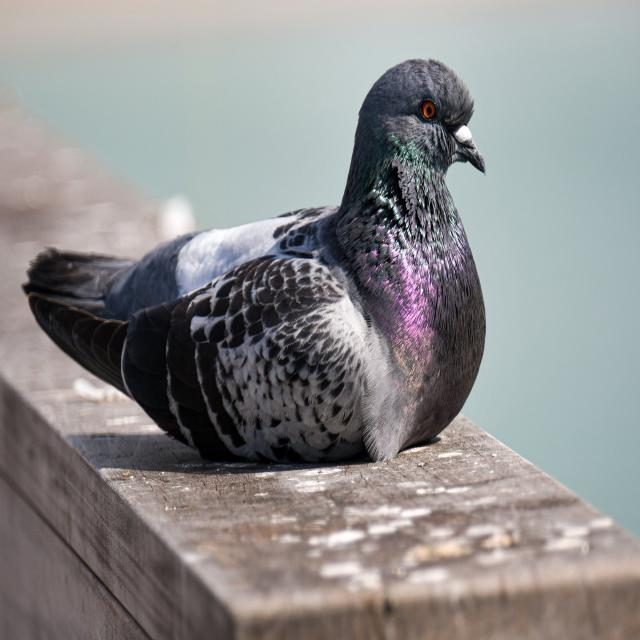Pigeon: (20, 57, 490, 474)
